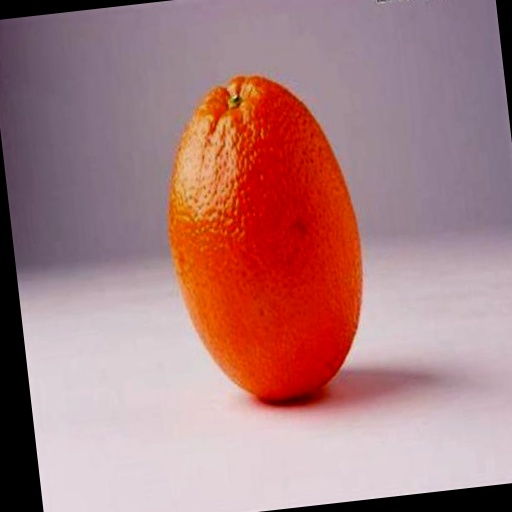fruit: (169, 76, 362, 400)
